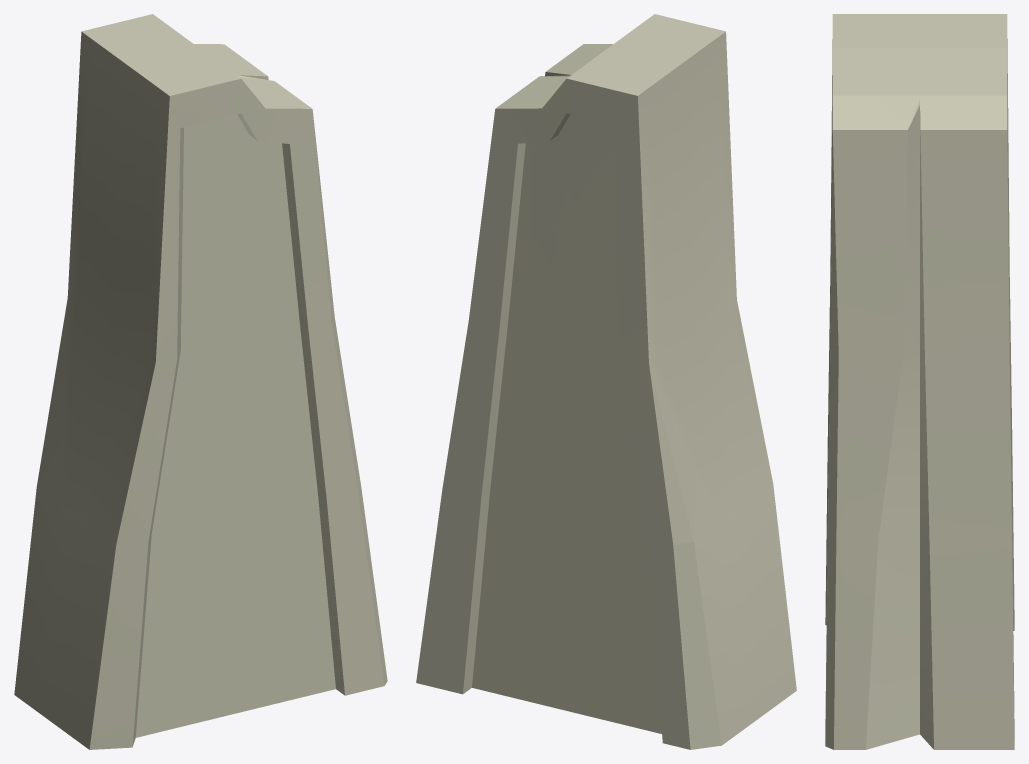
The model's file is SM_Stone_Deco_03.fbx.
3 renders of one model, left to right at view 1: azimuth 30°, elevation 25°; view 2: azimuth 150°, elevation 25°; view 3: azimuth 270°, elevation 25°, orthographic.
Parts seen in each view (by area): view 1: SM_Stone_Deco_03; view 2: SM_Stone_Deco_03; view 3: SM_Stone_Deco_03.
Boxes of the visible parts, x1,y1,x2,y2 form: SM_Stone_Deco_03: (14, 14, 387, 749); SM_Stone_Deco_03: (416, 14, 796, 749); SM_Stone_Deco_03: (825, 14, 1014, 749).
Size of the model in its own units: 58.71 by 122 by 33.13.
